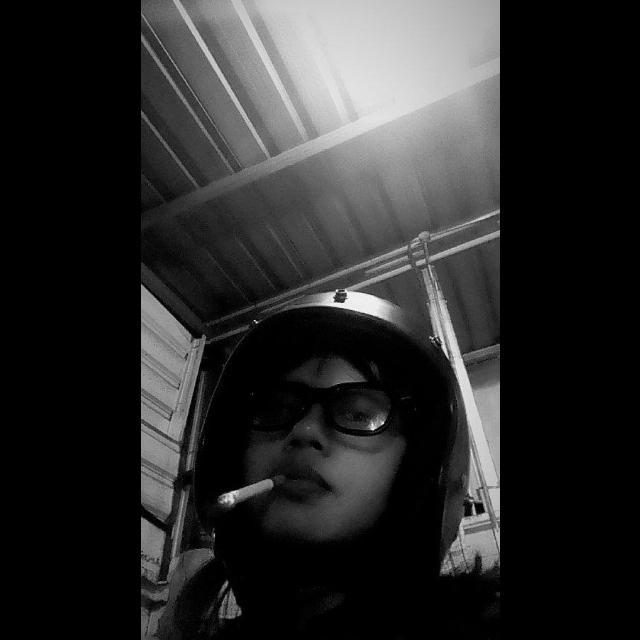rokok: (209, 467, 287, 518)
